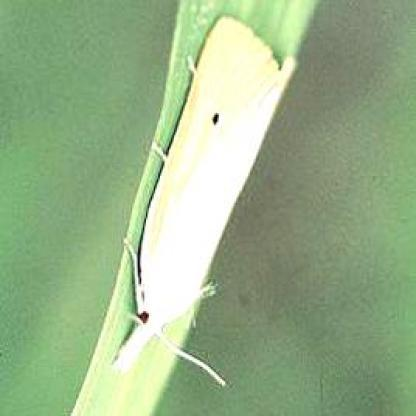stem-borer: (111, 15, 298, 386)
